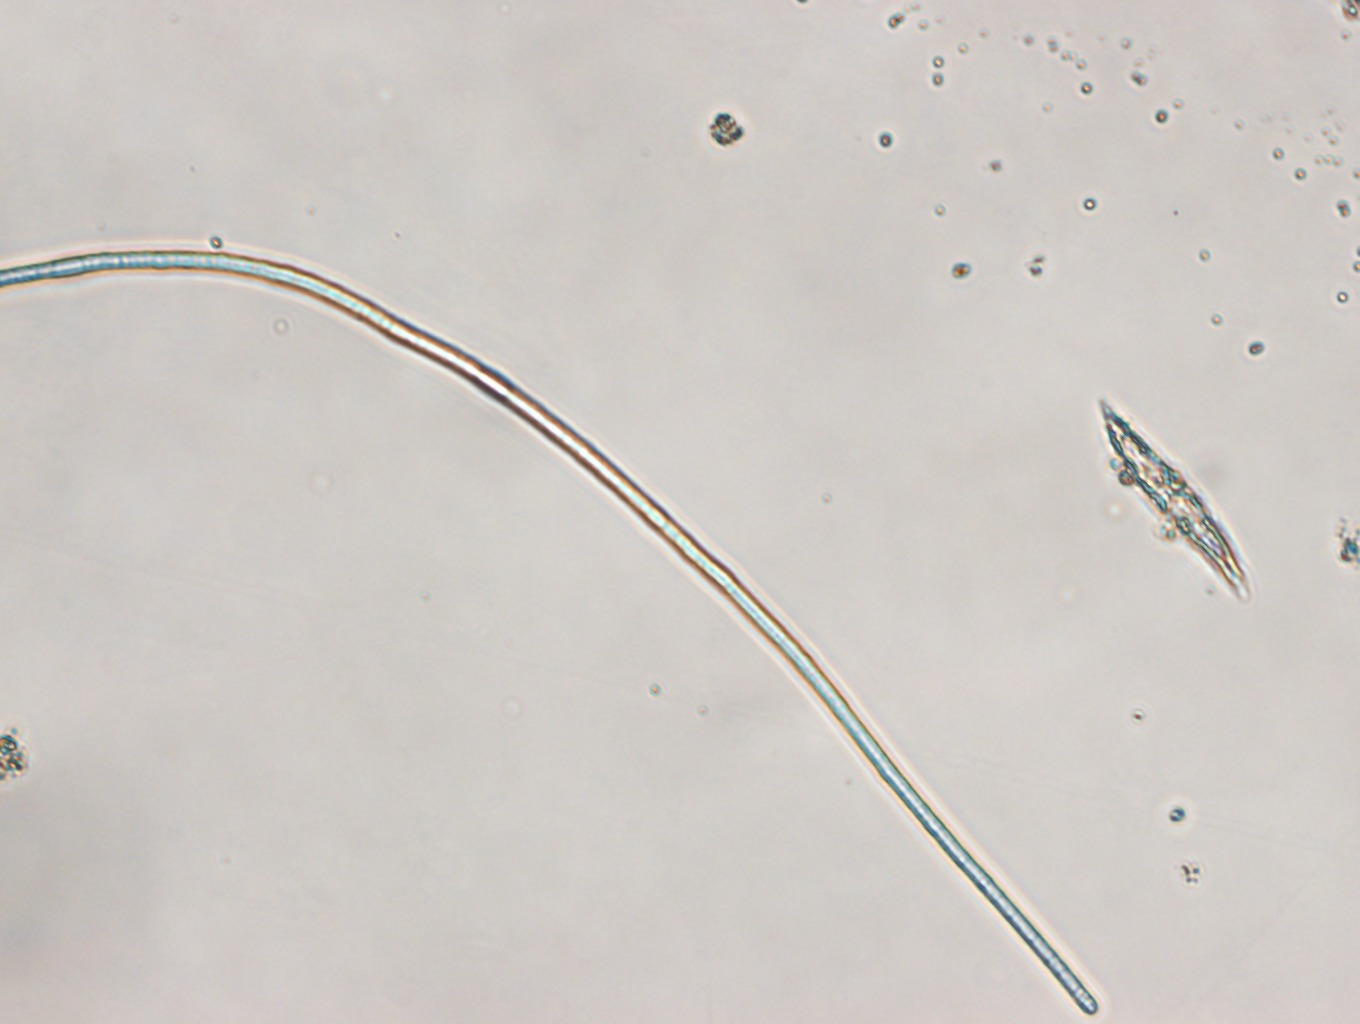pleurosigma pelagicum: (1096, 401, 1247, 602)
